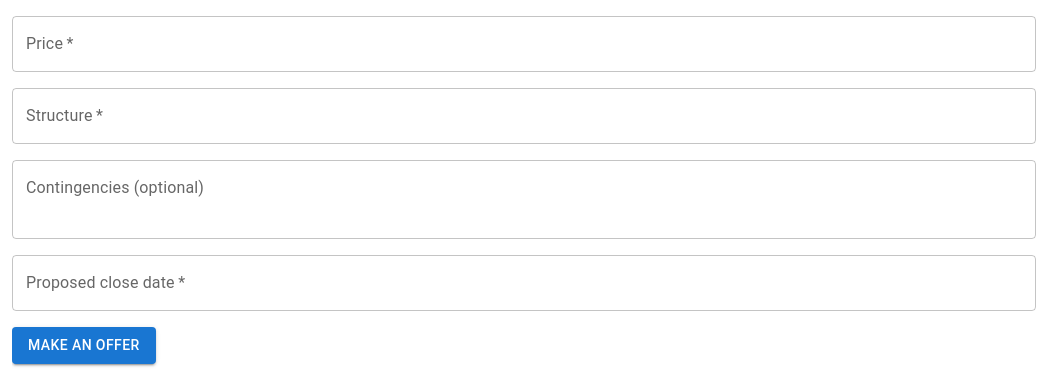
Test: OfferForm › J1: submitting the form posts the four fields and the panel leaves the empty state
This screenshot has width=1048, height=384.
In the field labelled "Price *": (524, 44) [12,16,1036,72], type "250000.00"
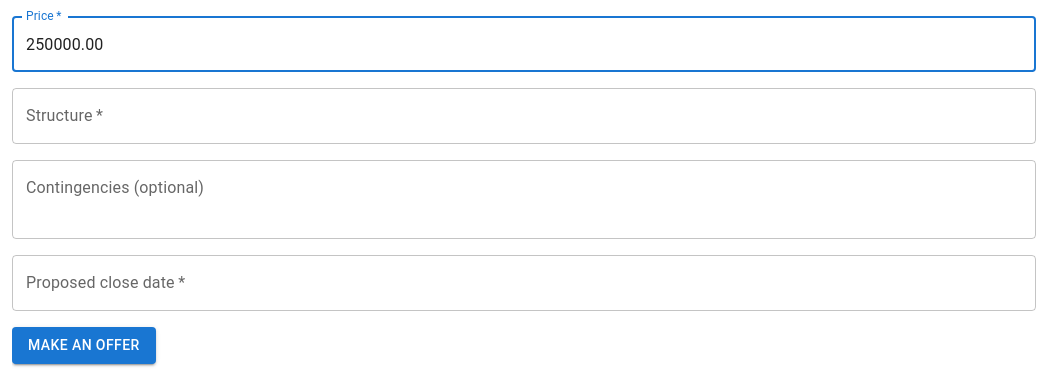
In the field labelled "Structure *": (524, 116) [12,88,1036,144], type "all cash"
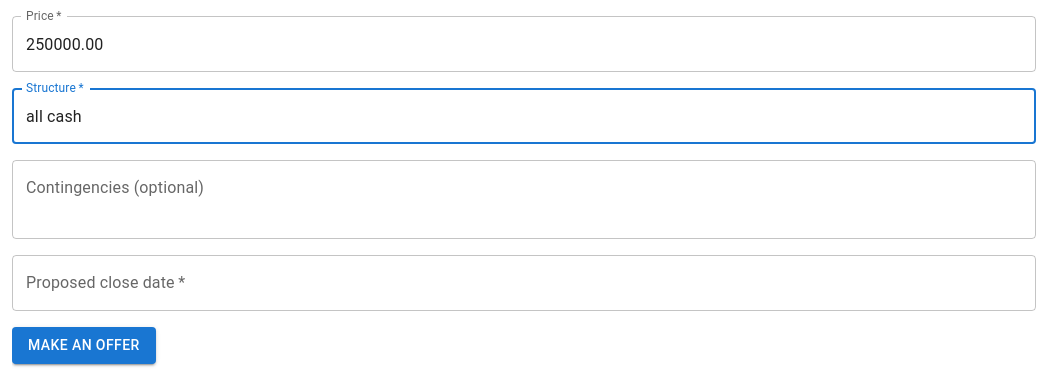
In the text box labelled "Contingencies (optional)": (524, 200) [26,176,1022,222], type "subject to financing"
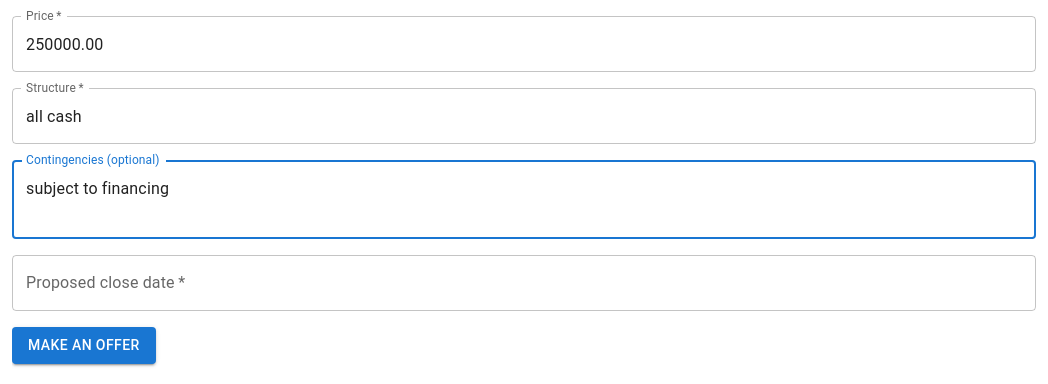
In the field labelled "Proposed close date *": (524, 283) [12,255,1036,311], type "2026-09-01"
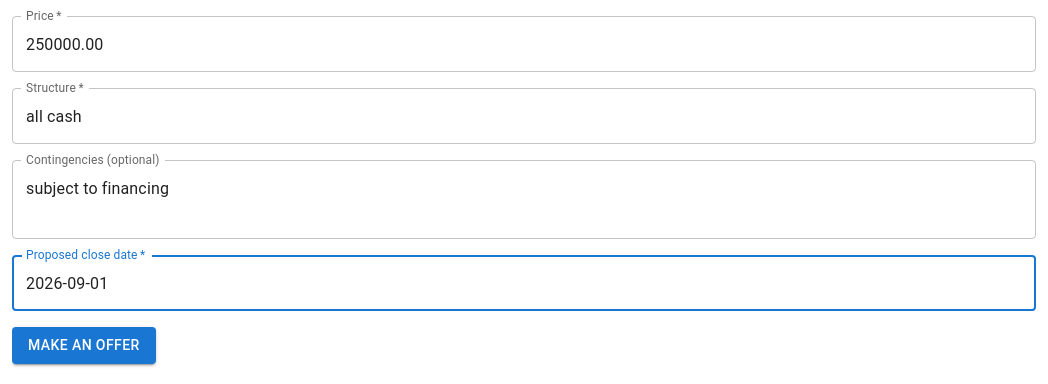
Click the button "Make an offer": click(84, 345) [12,327,156,364]
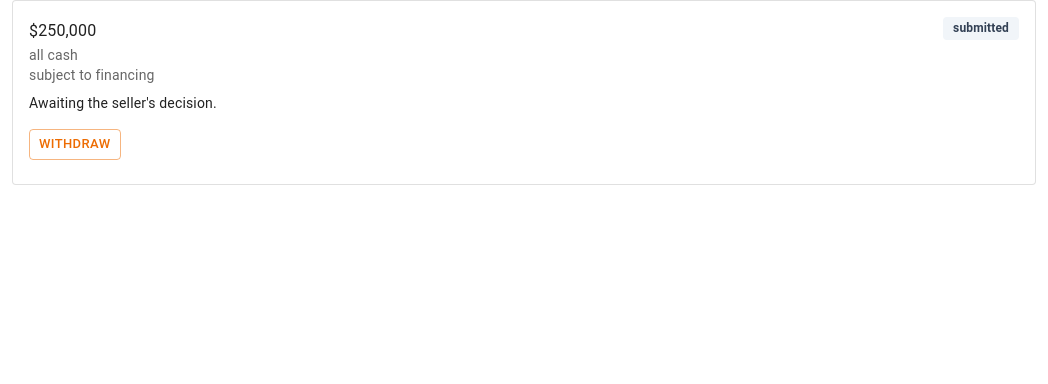
expect the button "Make an offer" is gone: met
